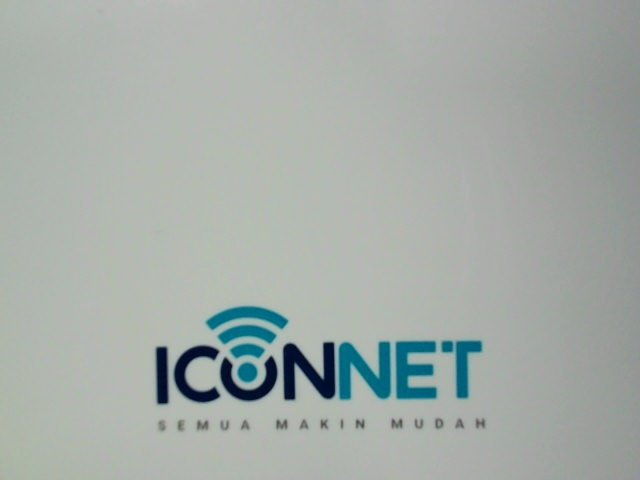BM_ICONNET: (138, 294, 511, 437)
